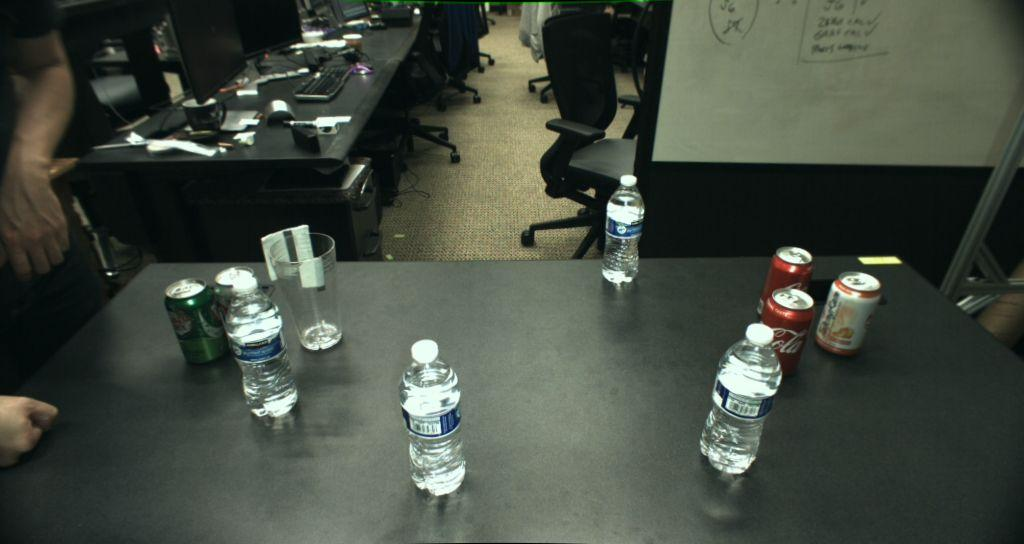can_ginger_ale: (165, 278, 228, 364)
can_talking_rain_peach_nectarine: (814, 270, 881, 356)
water_bottle: (699, 323, 782, 474), (398, 339, 466, 496), (225, 276, 297, 418), (602, 174, 644, 283)
